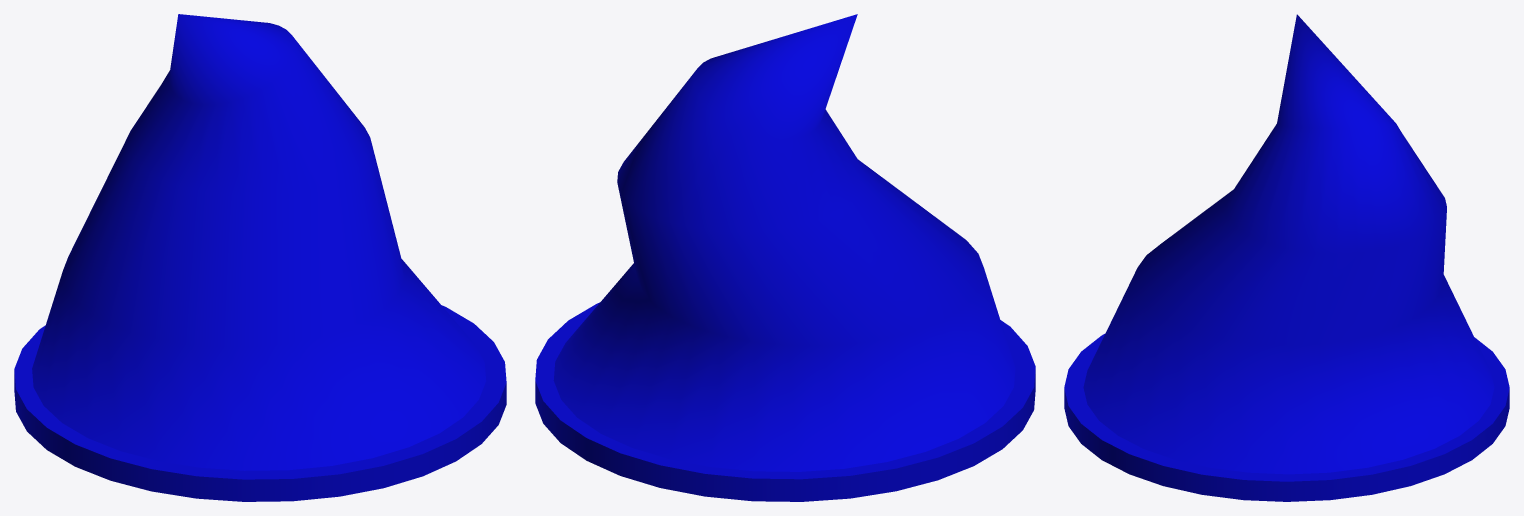
The model's file is Tower.fbx.
The picture shows the model from 3 angles, left to right: view 1: azimuth 30°, elevation 25°; view 2: azimuth 150°, elevation 25°; view 3: azimuth 270°, elevation 25°; orthographic projection. The views are drawn at different scales.
Parts seen in each view (by area): view 1: Tower; view 2: Tower; view 3: Tower.
Part boxes in pixels (x1=…): Tower: x1=14, y1=14, x2=506, y2=501; Tower: x1=535, y1=14, x2=1035, y2=501; Tower: x1=1064, y1=14, x2=1509, y2=501.
Size of the model in its own units: 2 by 1.78 by 2.
